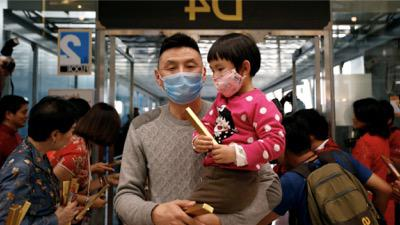with_mask: (159, 56, 202, 104), (211, 63, 242, 99)
without_mask: (10, 108, 28, 128), (350, 109, 365, 130)
